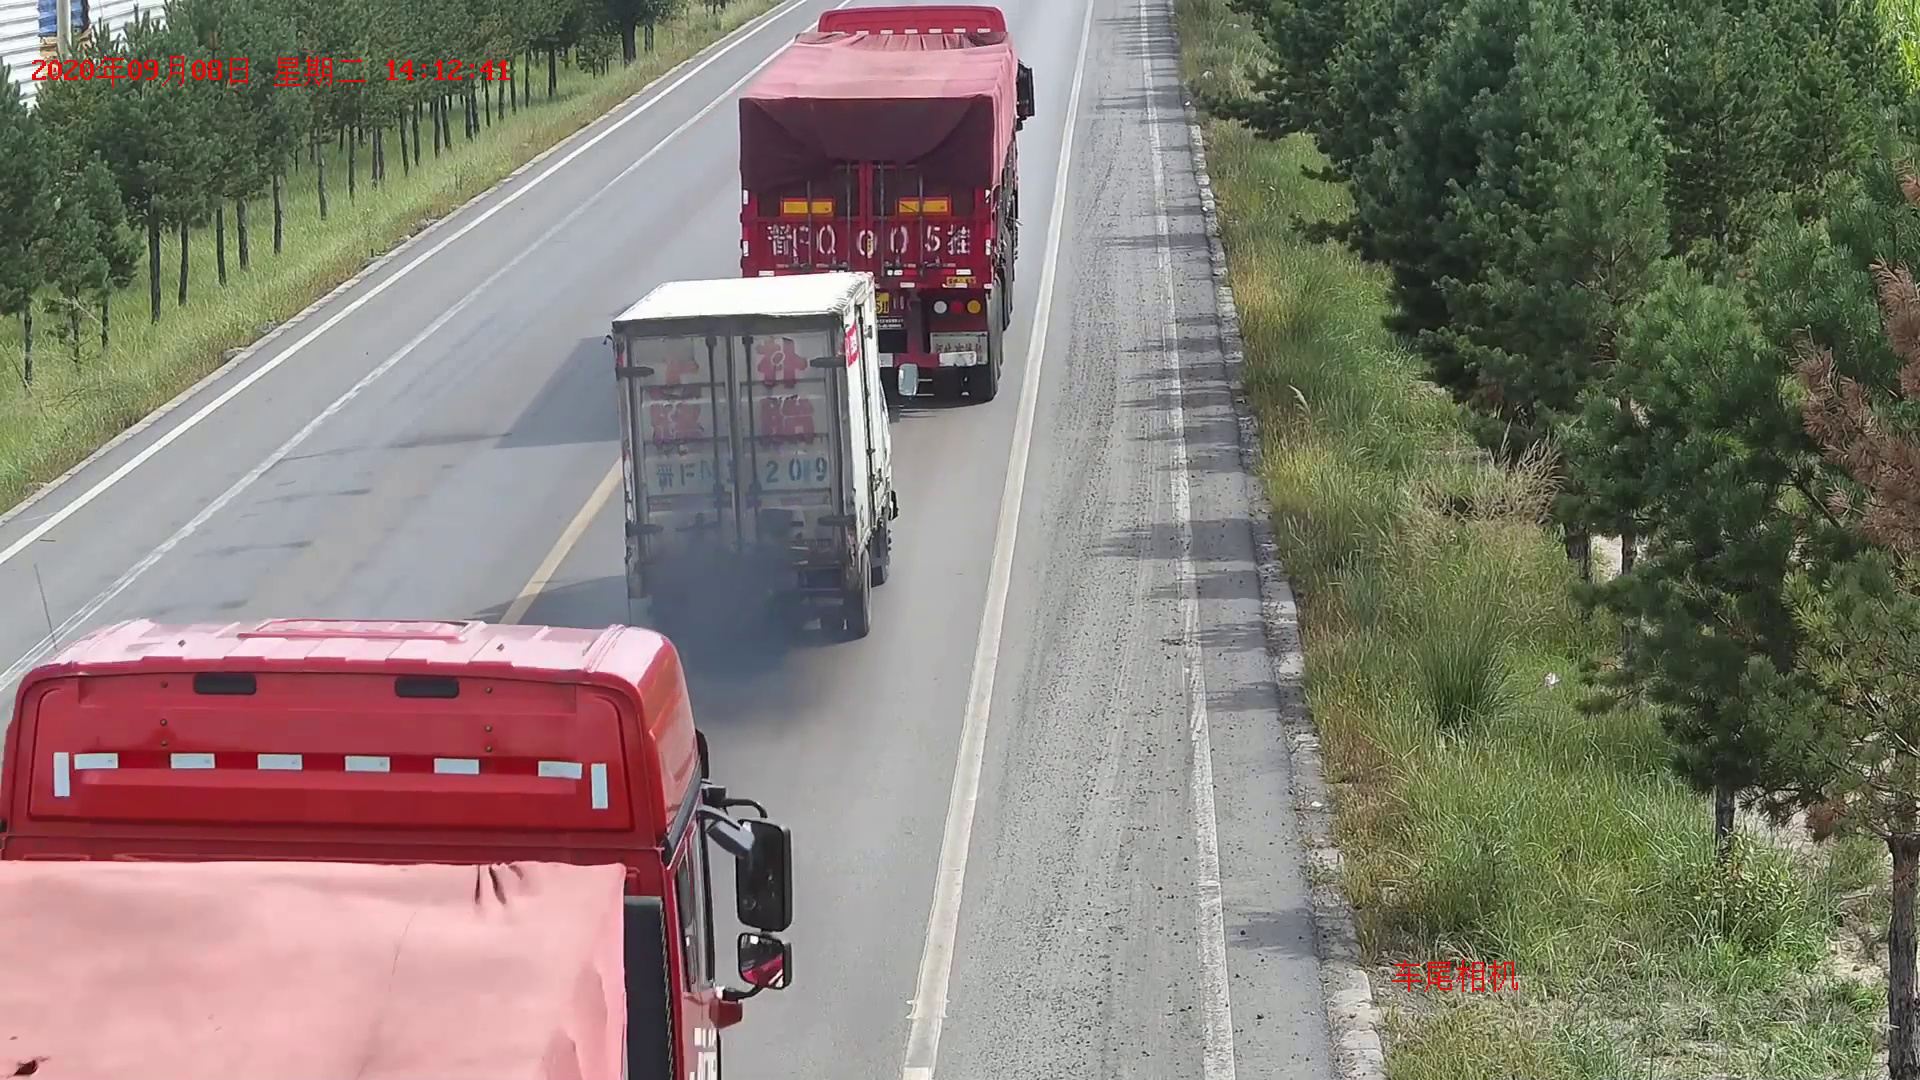normal: (742, 111, 990, 272)
smoky: (621, 324, 872, 617)
